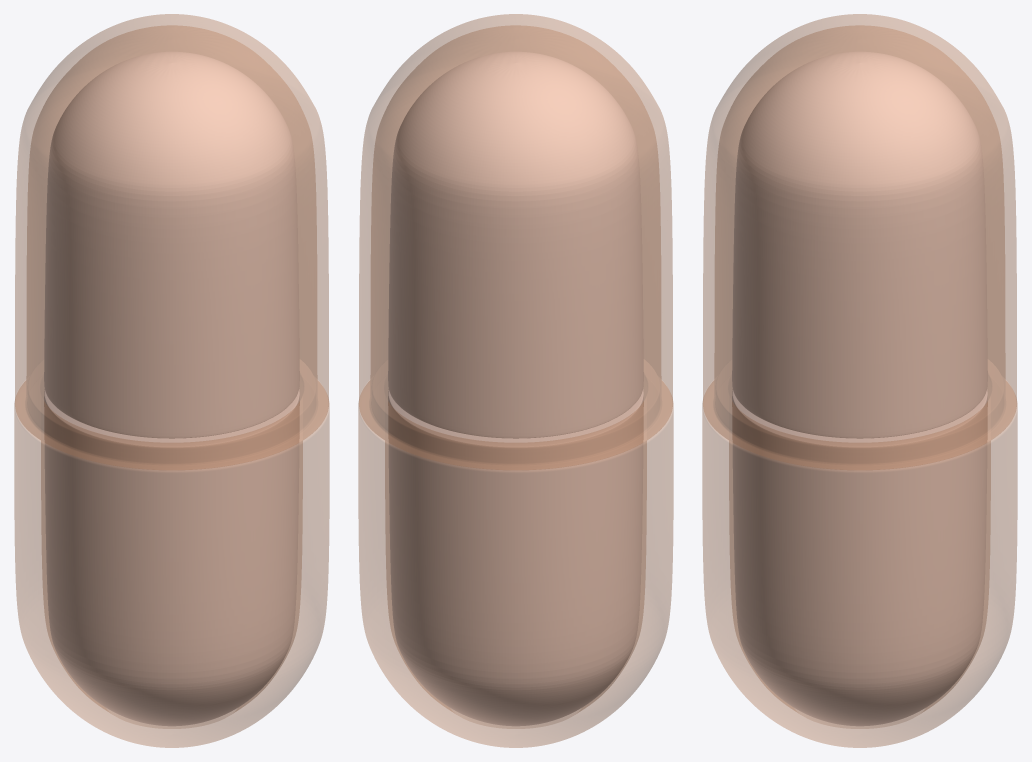
3 renders of one model, left to right at view 1: azimuth 30°, elevation 25°; view 2: azimuth 150°, elevation 25°; view 3: azimuth 270°, elevation 25°, orthographic.
Visible parts, largest first — view 1: lid, botlte, cream.001, cream; view 2: lid, botlte, cream.001, cream; view 3: lid, botlte, cream.001, cream.
Boxes of the visible parts, box(x1,y1,x2,y2) form: lid: box(15, 14, 328, 469); botlte: box(14, 360, 329, 747); cream.001: box(44, 51, 299, 438); cream: box(44, 389, 299, 726); lid: box(359, 14, 672, 469); botlte: box(358, 360, 673, 747); cream.001: box(388, 51, 643, 438); cream: box(388, 389, 643, 726); lid: box(703, 14, 1016, 469); botlte: box(702, 360, 1017, 747); cream.001: box(732, 51, 987, 438); cream: box(732, 389, 987, 726).
Size of the model in its own units: 0.3007 by 0.7436 by 0.3007.
